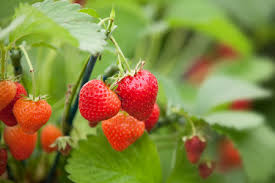ripe: (114, 63, 159, 121), (100, 107, 147, 155), (75, 80, 120, 129), (4, 122, 40, 164), (16, 94, 51, 133), (213, 130, 245, 172), (3, 81, 26, 130), (137, 100, 168, 134), (181, 127, 204, 167), (37, 122, 65, 153), (196, 146, 221, 179), (1, 75, 15, 116)
